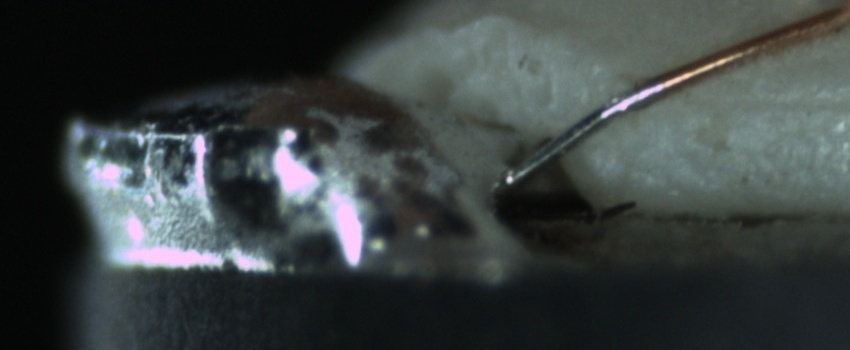DL: (697, 74, 849, 128)
TS: (502, 80, 667, 186)
